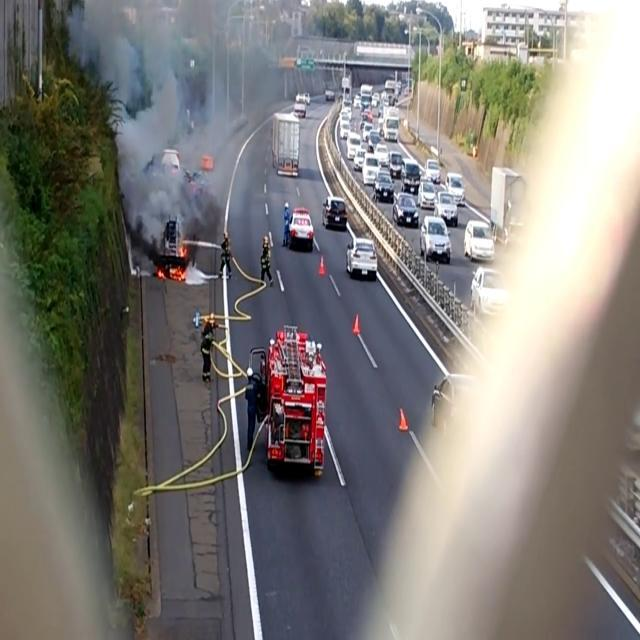Smoke: (68, 1, 276, 222)
